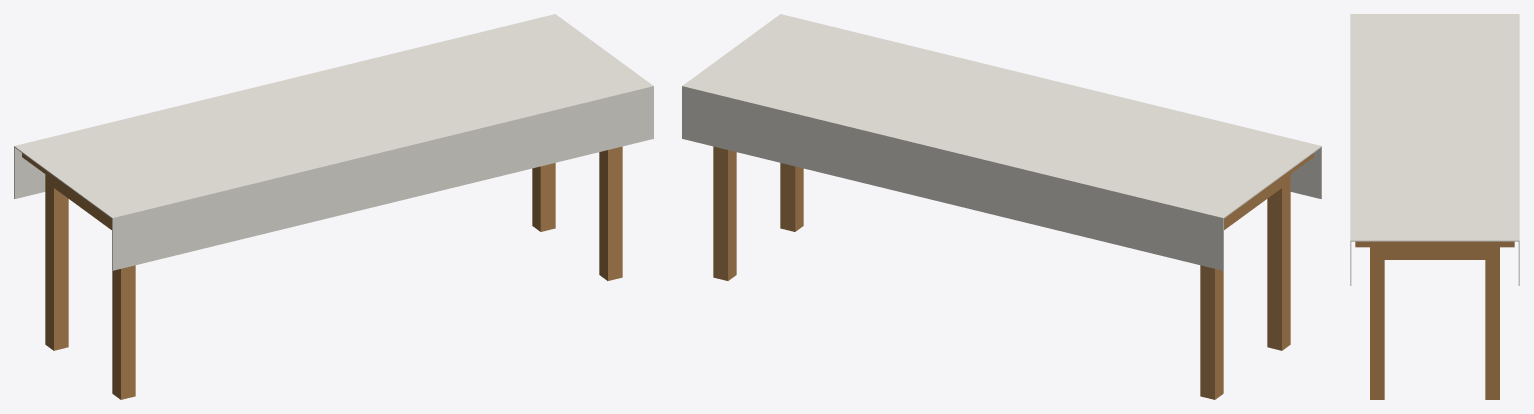
The picture shows the model from 3 angles, left to right: view 1: azimuth 30°, elevation 25°; view 2: azimuth 150°, elevation 25°; view 3: azimuth 270°, elevation 25°; orthographic projection. The views are drawn at different scales.
Parts seen in each view (by area): view 1: parametric-variant-table-2nd-pub-f4890c2aba2dfcae5e01; view 2: parametric-variant-table-2nd-pub-f4890c2aba2dfcae5e01; view 3: parametric-variant-table-2nd-pub-f4890c2aba2dfcae5e01.
Part boxes in pixels (<box>): parametric-variant-table-2nd-pub-f4890c2aba2dfcae5e01: <box>14,14,653,399</box>; parametric-variant-table-2nd-pub-f4890c2aba2dfcae5e01: <box>682,14,1321,399</box>; parametric-variant-table-2nd-pub-f4890c2aba2dfcae5e01: <box>1350,14,1519,399</box>.
Size of the model in its own units: 2.19 by 0.754 by 0.69.
